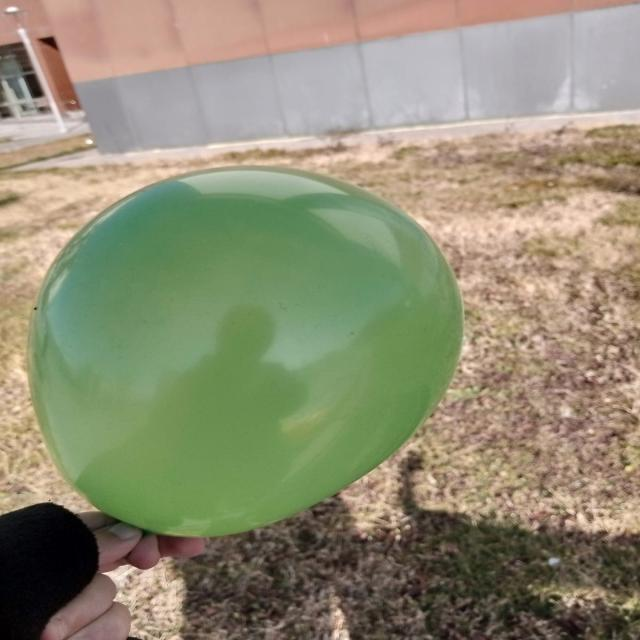balloon: (29, 167, 463, 536)
